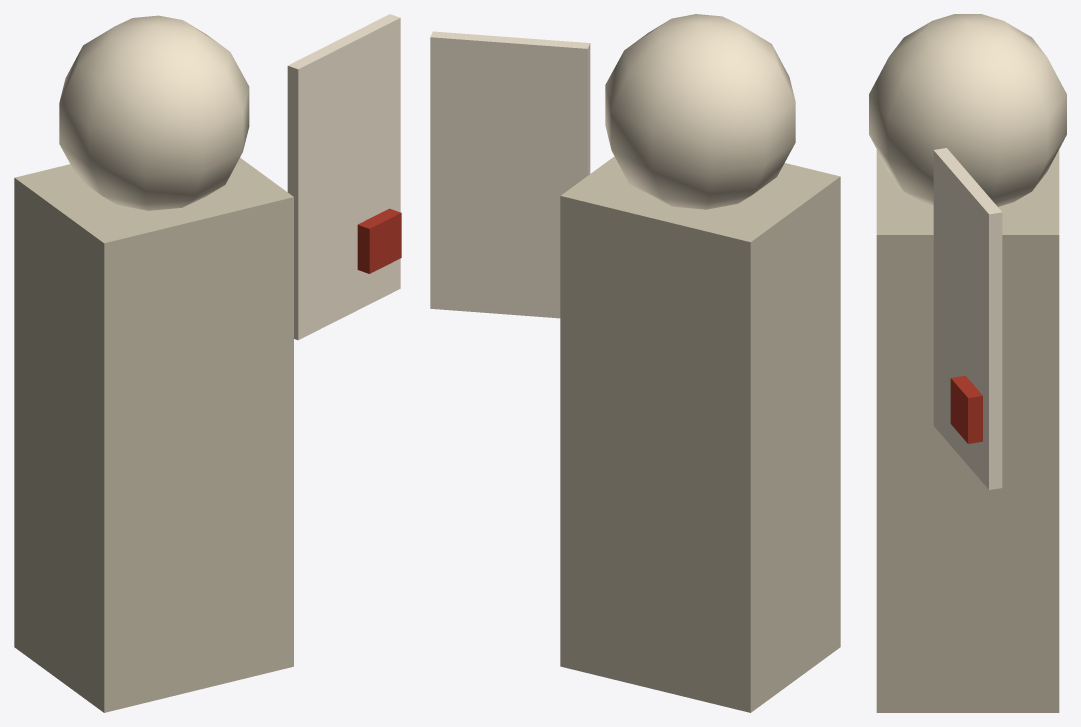
The model's file is fu_xiu.glb.
The picture shows the model from 3 angles, left to right: view 1: azimuth 30°, elevation 25°; view 2: azimuth 150°, elevation 25°; view 3: azimuth 270°, elevation 25°; orthographic projection.
Parts seen in each view (by area): view 1: _MeshInstance3D_25, _MeshInstance3D_26, _MeshInstance3D_27, _MeshInstance3D_28; view 2: _MeshInstance3D_25, _MeshInstance3D_27, _MeshInstance3D_26; view 3: _MeshInstance3D_25, _MeshInstance3D_26, _MeshInstance3D_27, _MeshInstance3D_28.
Part boxes in pixels (x1,y1,x2,y2): _MeshInstance3D_25: (14,158,293,712); _MeshInstance3D_26: (59,15,249,210); _MeshInstance3D_27: (287,14,400,340); _MeshInstance3D_28: (357,208,401,273); _MeshInstance3D_25: (560,156,840,712); _MeshInstance3D_27: (430,31,590,318); _MeshInstance3D_26: (605,14,795,209); _MeshInstance3D_25: (876,149,1059,712); _MeshInstance3D_26: (869,14,1066,206); _MeshInstance3D_27: (933,148,1002,489); _MeshInstance3D_28: (950,375,982,443).
Bounding box in the file's own units: 0.4076 × 0.7 × 0.195.
